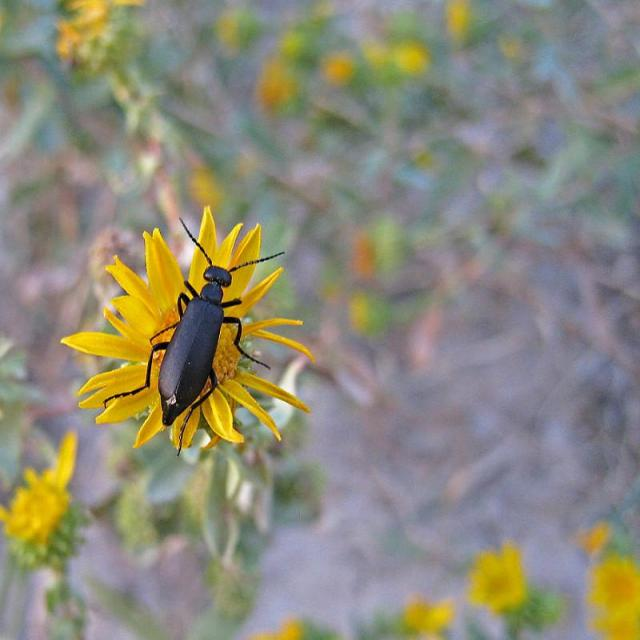BlisterBeetle-Adult-: (142, 207, 276, 441)
